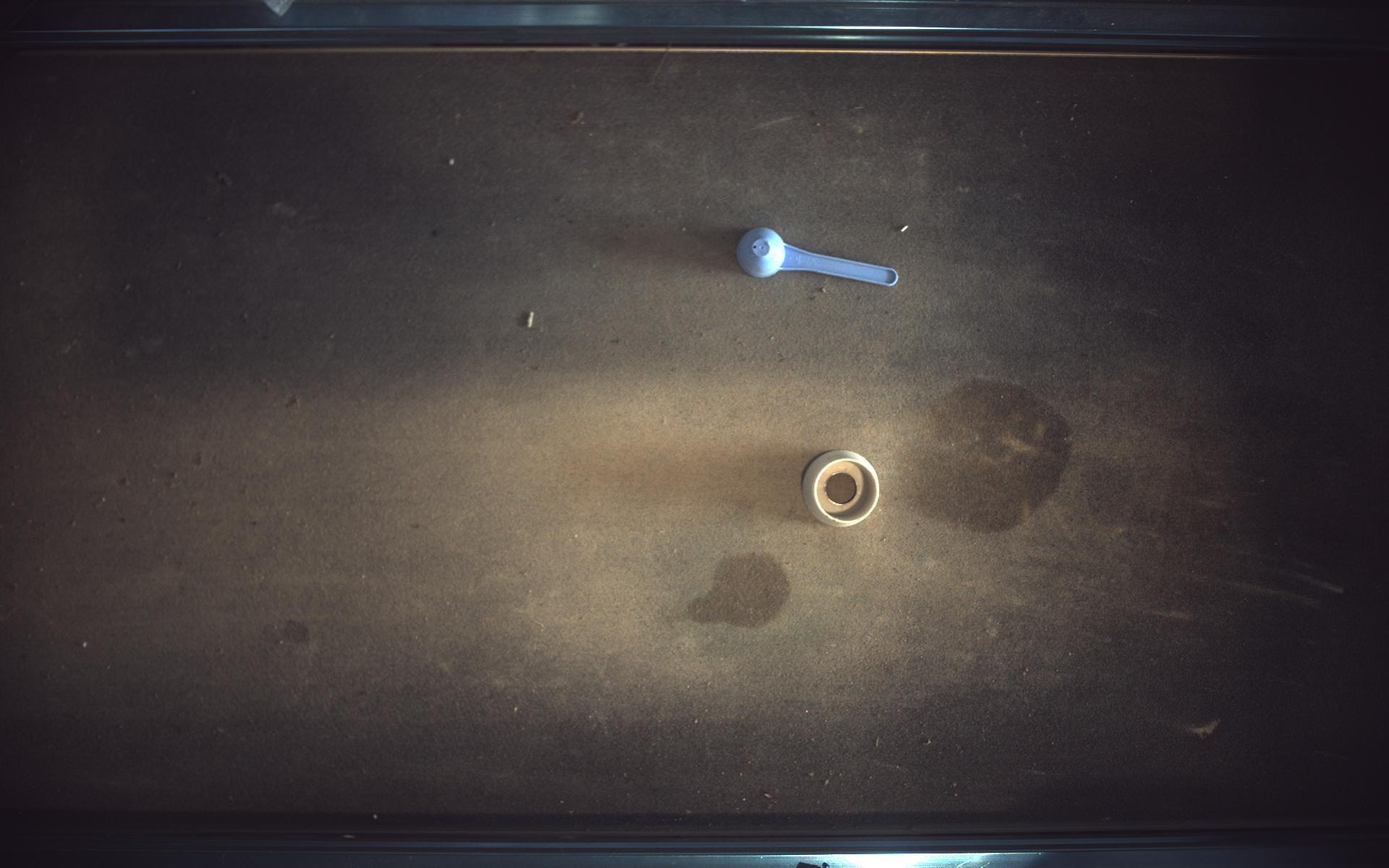general_w: (738, 226, 900, 286), (804, 451, 881, 527)
